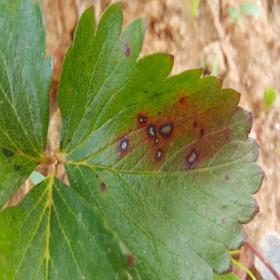Leaf Spot: (56, 0, 265, 279)
